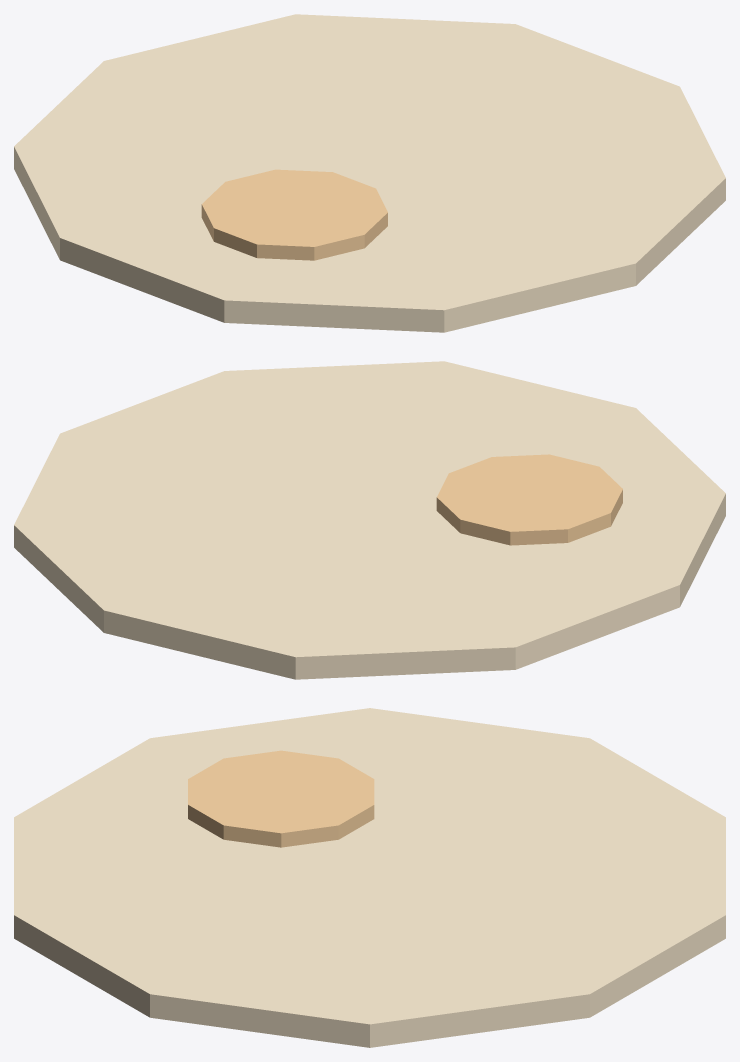
File: food3.fbx
The picture shows the model from 3 angles, top to bottom: view 1: azimuth 30°, elevation 25°; view 2: azimuth 150°, elevation 25°; view 3: azimuth 270°, elevation 25°; orthographic projection. The views are drawn at different scales.
Visible parts, largest first — view 1: Cylinder_3; view 2: Cylinder_3; view 3: Cylinder_3.
Boxes of the visible parts, <box> form: Cylinder_3: <box>14,14,725,332</box>; Cylinder_3: <box>14,361,725,679</box>; Cylinder_3: <box>14,708,725,1047</box>.
Bounding box in the file's own units: 15.34 × 0.8556 × 14.59.
